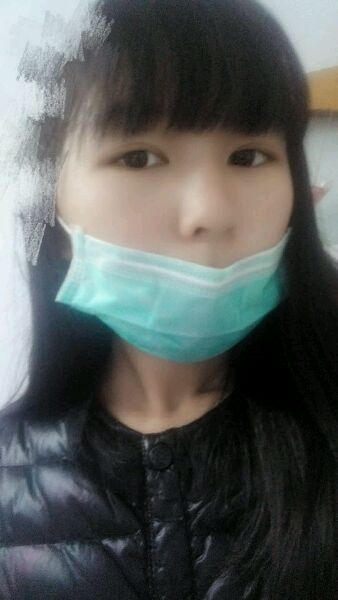face_mask: (58, 11, 295, 359)
